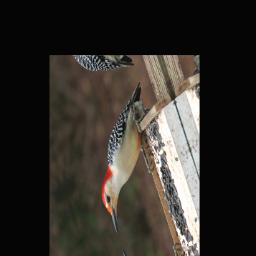Woodpecker: (79, 79, 176, 238)
